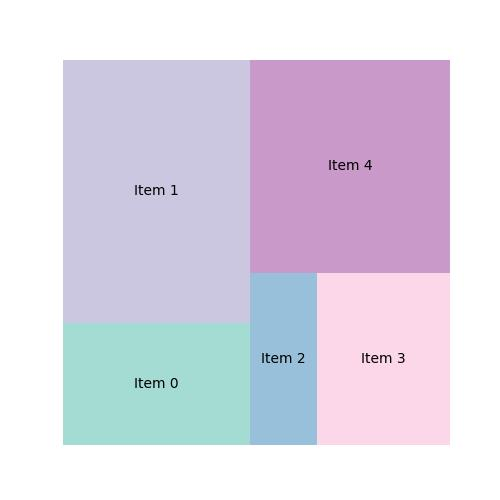rectangle: (62, 58, 249, 324), (247, 58, 450, 274), (317, 273, 452, 447), (62, 324, 251, 444), (246, 275, 318, 446)
